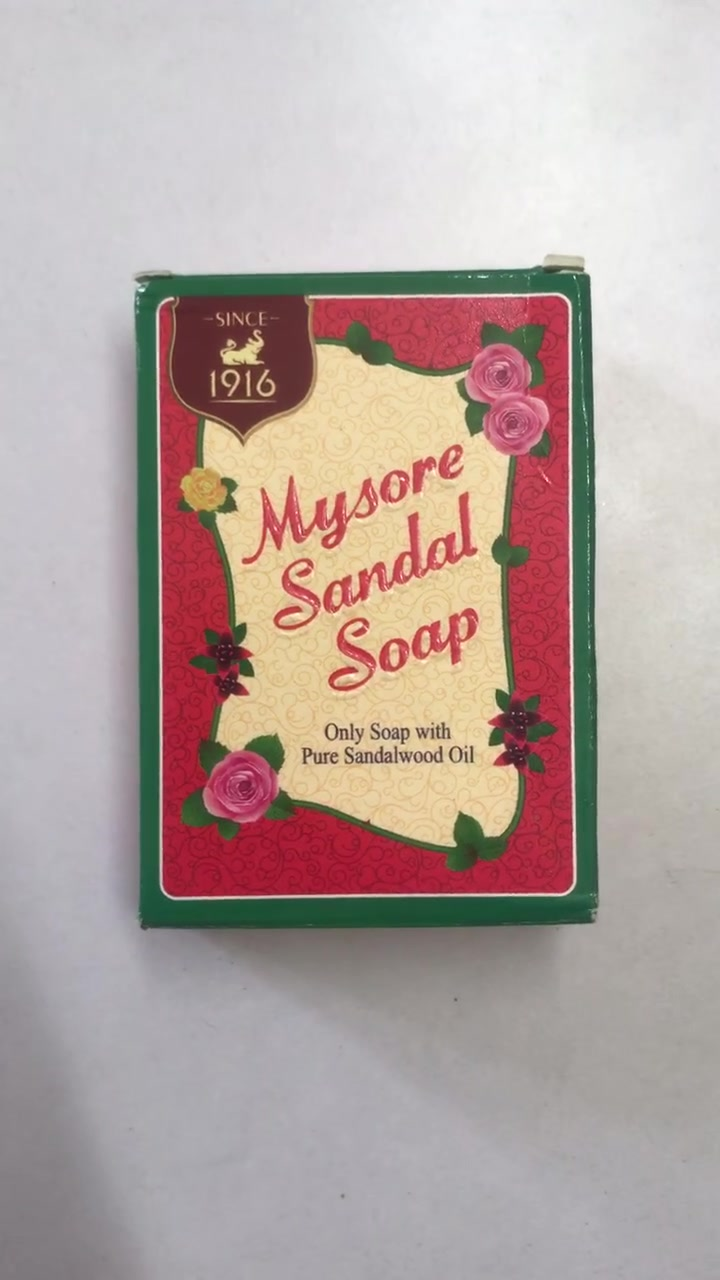mysore sandal soap: (139, 280, 594, 920)
